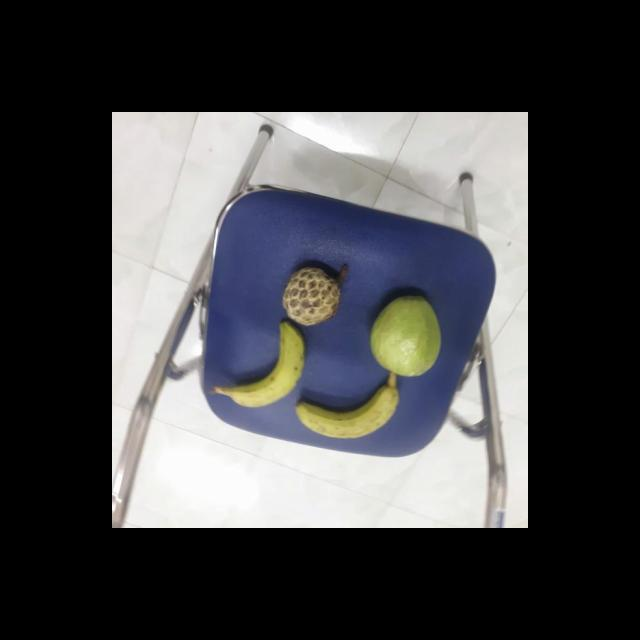Sakya fruit: (282, 264, 350, 325)
banana: (225, 322, 310, 408)
guava: (371, 292, 446, 378)
